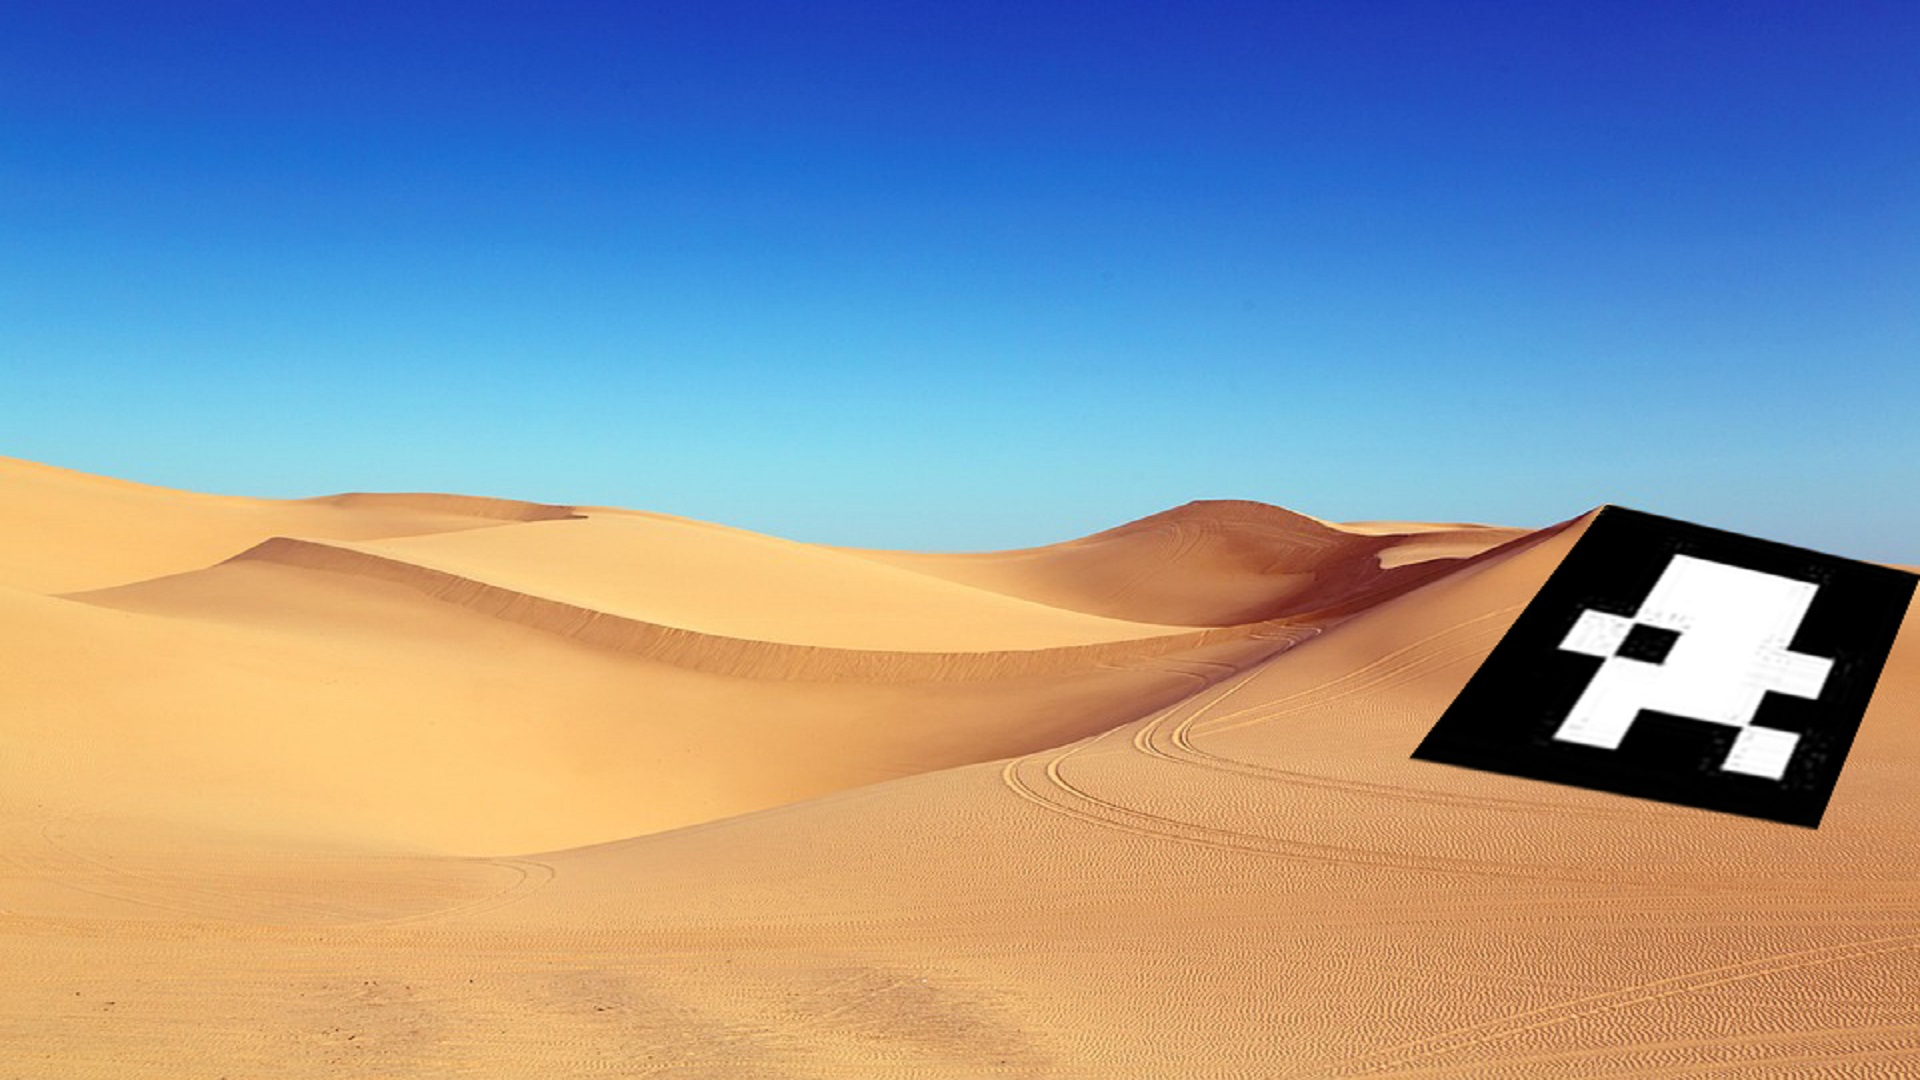marker: (1407, 501, 1920, 837)
